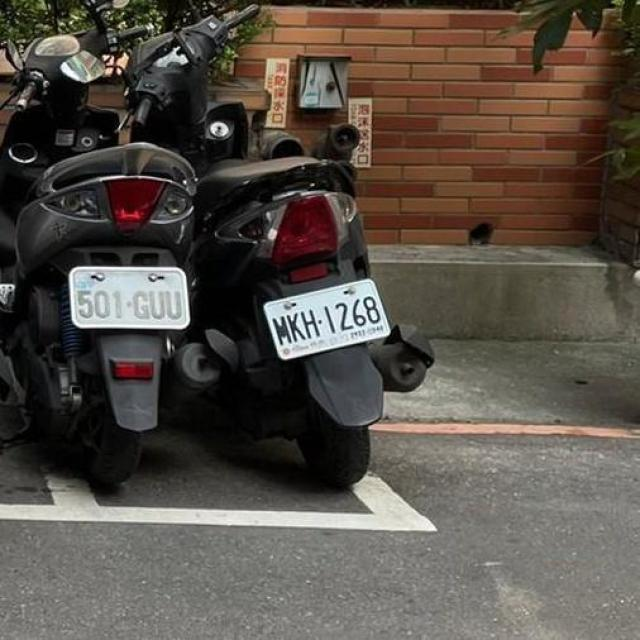W: (254, 274, 398, 363), (62, 257, 195, 335)
